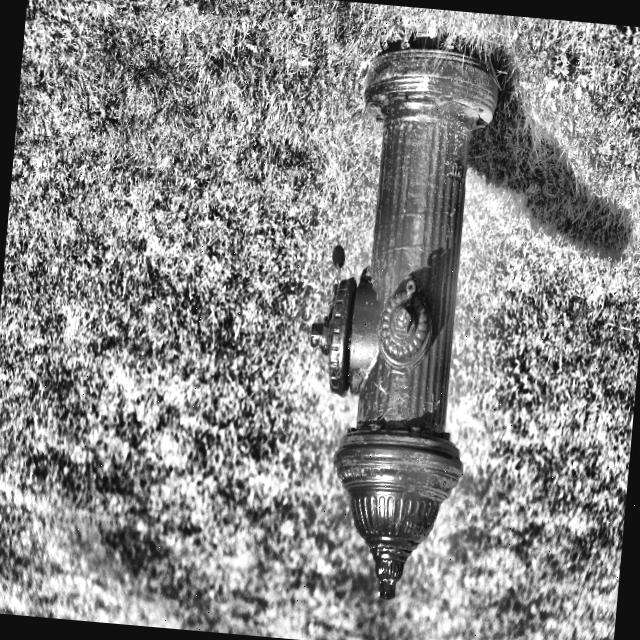fire hydrant: (278, 30, 552, 635)
